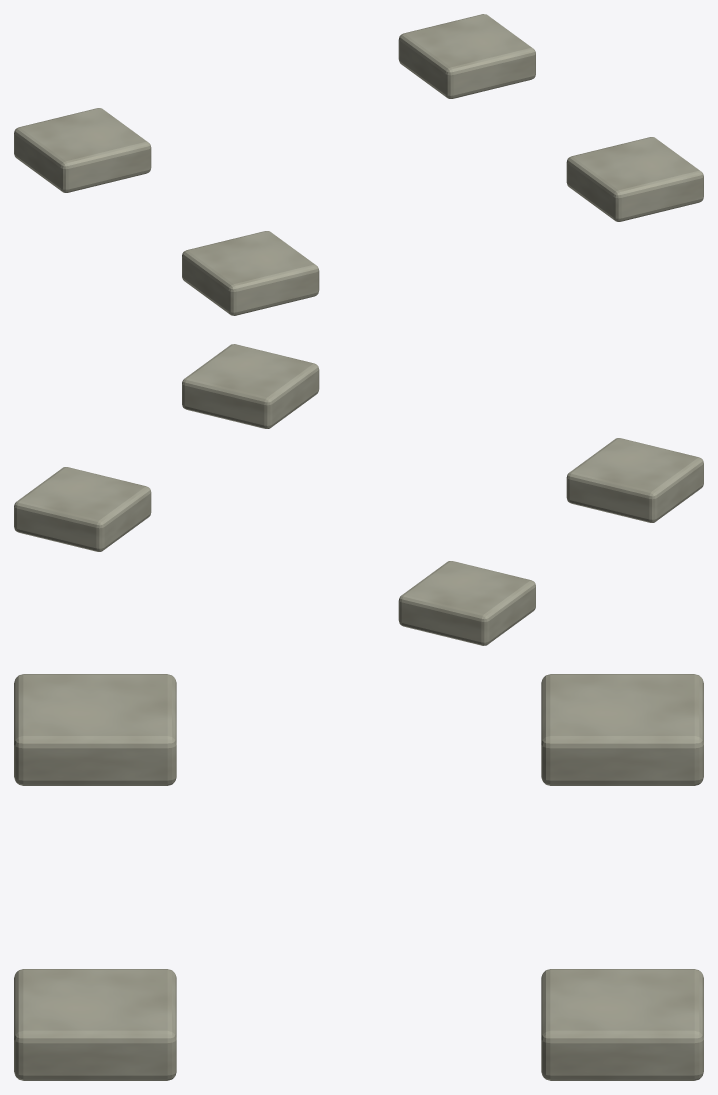
Rendered from Foundations.glb.
The picture shows the model from 3 angles, top to bottom: view 1: azimuth 30°, elevation 25°; view 2: azimuth 150°, elevation 25°; view 3: azimuth 270°, elevation 25°; orthographic projection. The views are drawn at different scales.
Parts seen in each view (by area): view 1: Foundations; view 2: Foundations; view 3: Foundations.
Part boxes in pixels (box(x1,y1,x2,y2)): Foundations: box(14, 14, 703, 315); Foundations: box(14, 344, 703, 645); Foundations: box(14, 674, 703, 1080).
Size of the model in its own units: 11.1 by 0.7 by 8.9.
1 material, 1 textured.
